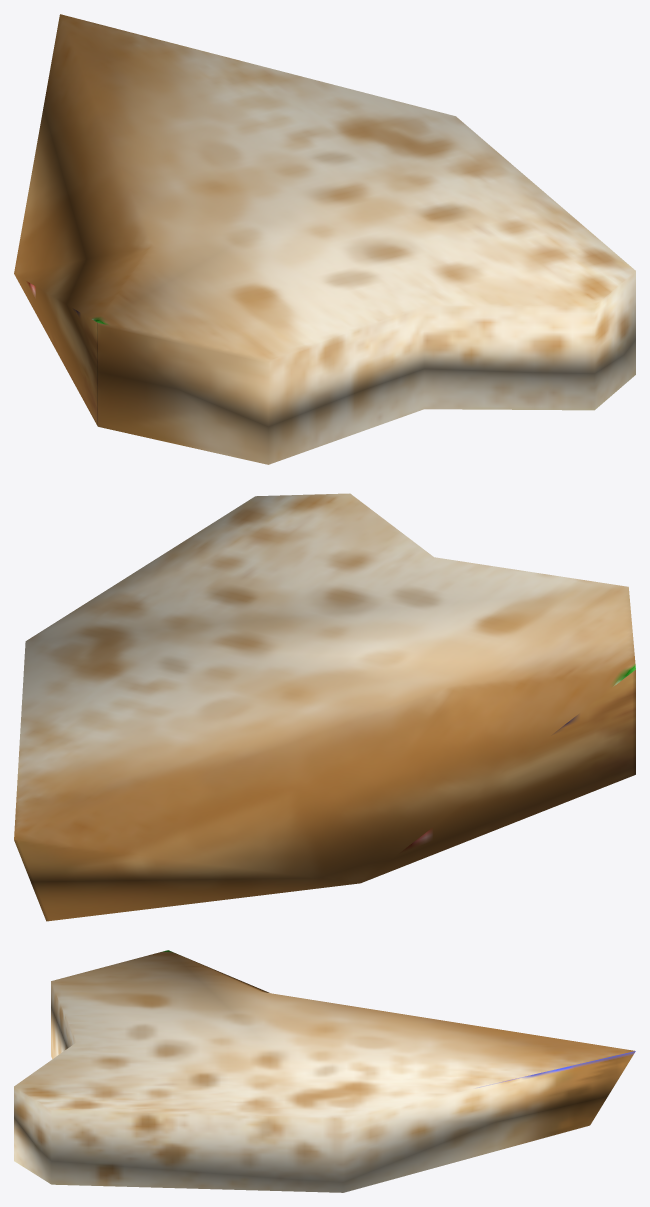
The model's file is assets_same_uvset_pan_chico.fbx.
3 renders of one model, top to bottom at view 1: azimuth 30°, elevation 25°; view 2: azimuth 150°, elevation 25°; view 3: azimuth 270°, elevation 25°, orthographic. The views are drawn at different scales.
Visible parts, largest first — view 1: assets_same_uvset:pan_chico; view 2: assets_same_uvset:pan_chico; view 3: assets_same_uvset:pan_chico.
Part boxes in pixels (x1,y1,x2,y2): assets_same_uvset:pan_chico: (14,14,635,464); assets_same_uvset:pan_chico: (14,493,635,921); assets_same_uvset:pan_chico: (14,950,635,1192).
Bounding box in the file's own units: 2.72 × 0.5619 × 4.25.
Materials: 1 (1 with a texture image).
